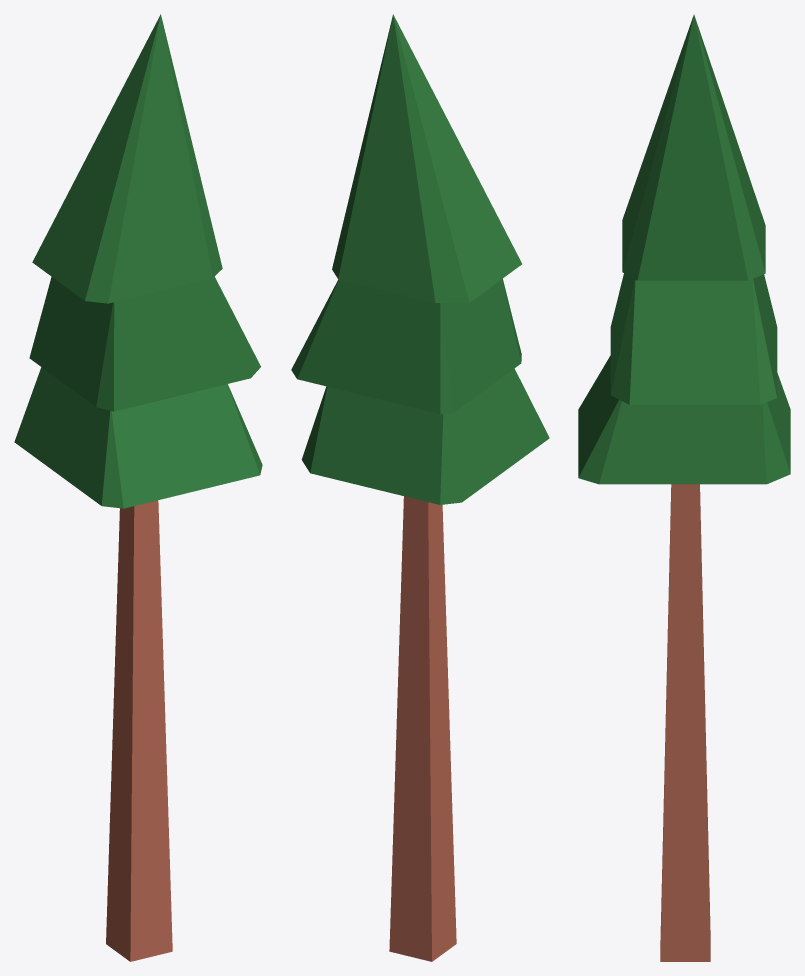
File: tree_pineTallB.glb
3 views of the same model, side by side, from view 1: azimuth 30°, elevation 25°; view 2: azimuth 150°, elevation 25°; view 3: azimuth 270°, elevation 25° (orthographic). The views are drawn at different scales.
Visible parts, largest first — view 1: tree_pineTallB; view 2: tree_pineTallB; view 3: tree_pineTallB.
Part boxes in pixels (<box>): tree_pineTallB: <box>14,14,262,961</box>; tree_pineTallB: <box>291,14,549,961</box>; tree_pineTallB: <box>578,14,790,961</box>.
Bounding box in the file's own units: 0.3863 × 1.93 × 0.392.
